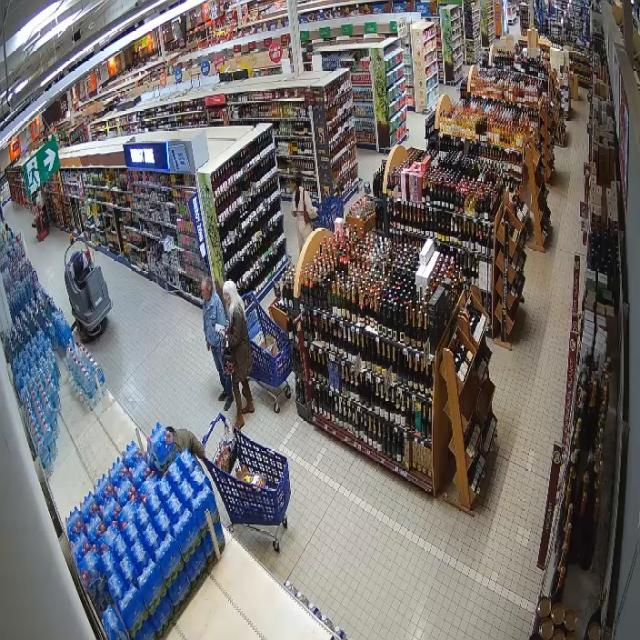article: (215, 323, 225, 332)
bags: (223, 337, 234, 377), (301, 192, 309, 224)
person: (223, 281, 254, 428), (201, 277, 232, 410), (291, 173, 317, 251), (166, 426, 204, 458)
